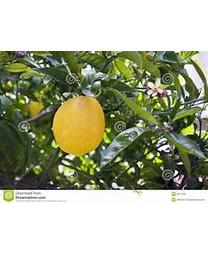lemon: (53, 95, 106, 157)
